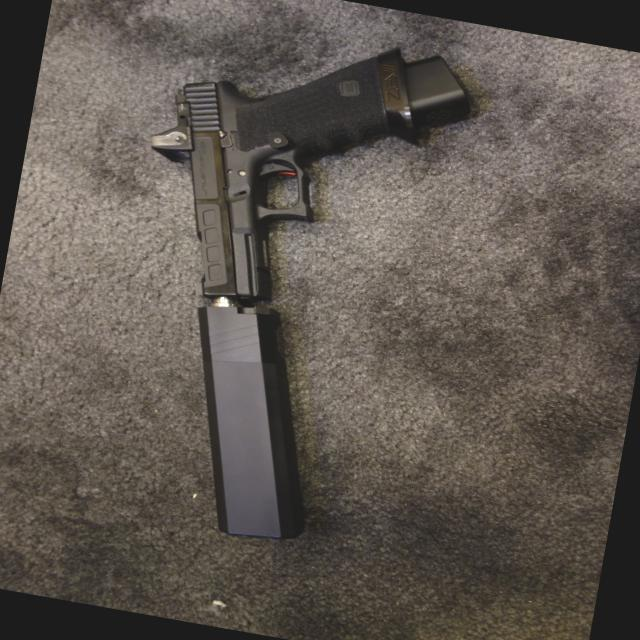handgun: (124, 2, 466, 338)
